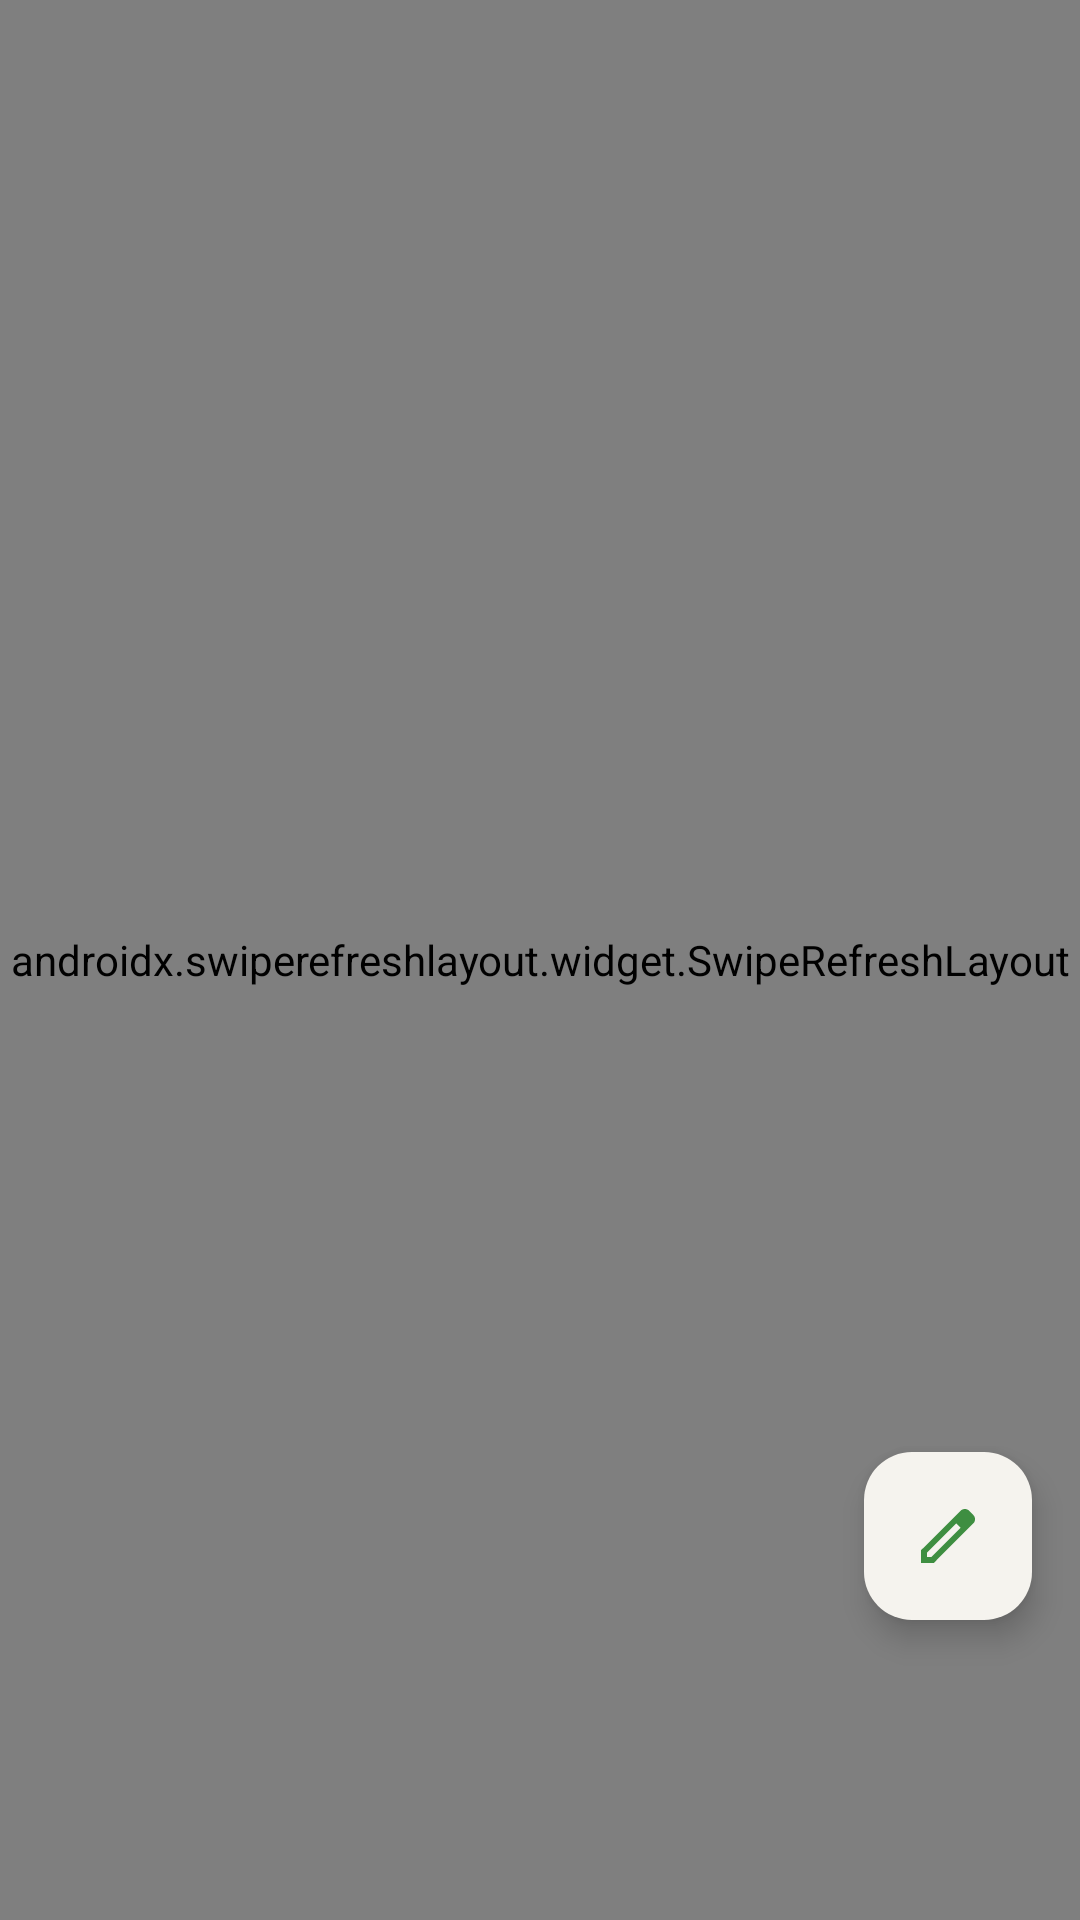

Icons on this 1080px x 1920px Android screen, each with its box as (x1, y1, x2, y2):
add post: (864, 1452, 1032, 1620)
